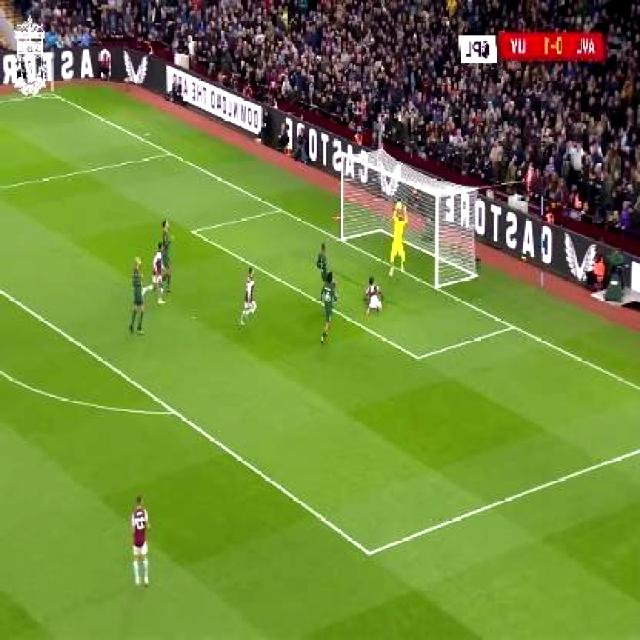bigarea_bottom_inner: (359, 535, 383, 568)
bigarea_top_outter: (162, 142, 180, 162)
bottom_arc_area_intersection: (163, 396, 186, 424)
corner: (43, 86, 65, 102)
smallarea_bottom_inner: (408, 340, 430, 372)
smallarea_bottom_outter: (503, 312, 525, 338)
smallarea_top_inner: (185, 218, 203, 242)
smallarea_top_outter: (272, 198, 291, 220)
